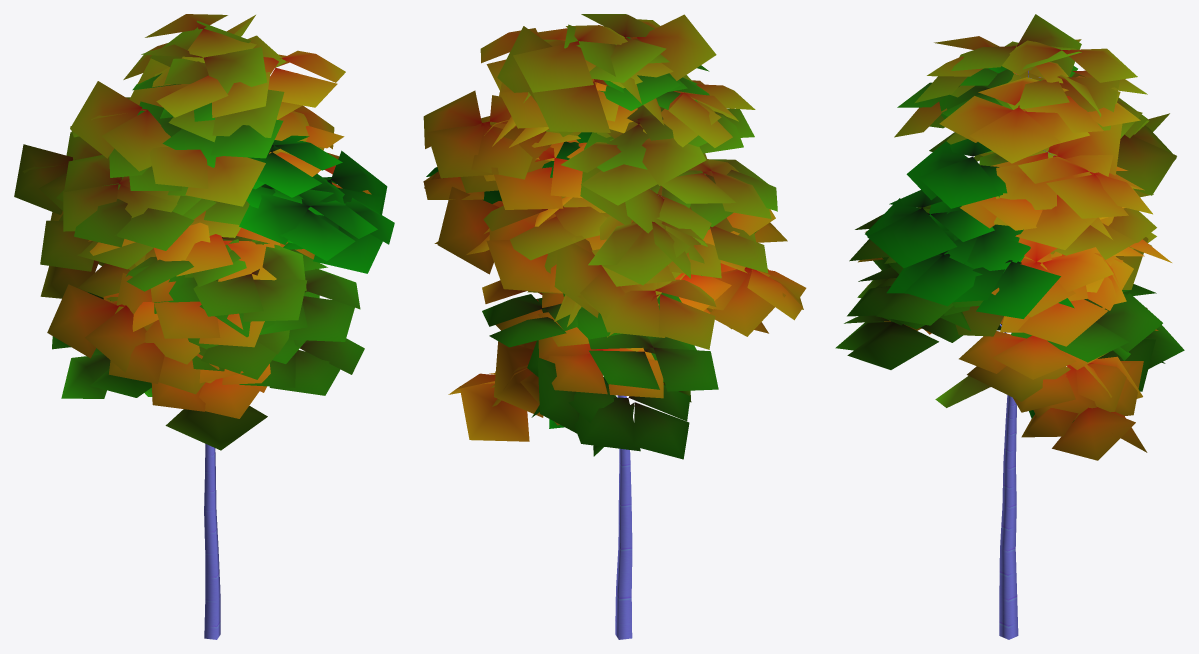
File: tree_Birch_LOD0.fbx
The picture shows the model from 3 angles, left to right: view 1: azimuth 30°, elevation 25°; view 2: azimuth 150°, elevation 25°; view 3: azimuth 270°, elevation 25°; orthographic projection. The views are drawn at different scales.
Visible parts, largest first — view 1: Birch_LOD0; view 2: Birch_LOD0; view 3: Birch_LOD0.
Part boxes in pixels (x1,y1,x2,y2): Birch_LOD0: [14, 14, 394, 639]; Birch_LOD0: [423, 14, 806, 639]; Birch_LOD0: [835, 14, 1184, 639].
Bounding box in the file's own units: 857 × 1391 × 736.
